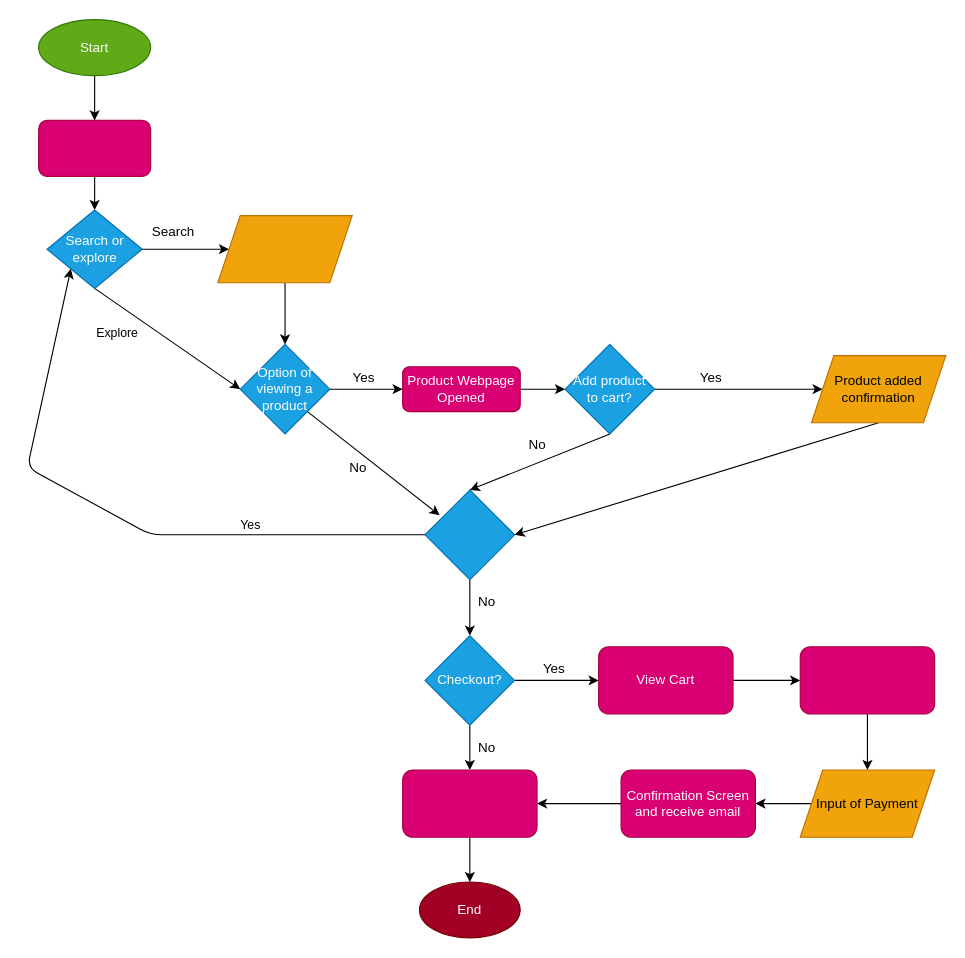
Some shapes in this 965 by 958 pixel diagram are drawn without their labels. Here are the shapes that lost their labels. From the top down, the centre of each, then its label:
At point (94, 147): "User enters website".
At point (284, 248): "User inputs search".
At point (469, 534): "Continue shopping?".
At point (867, 680): "View Payment".
At point (469, 803): "Leave Website".
